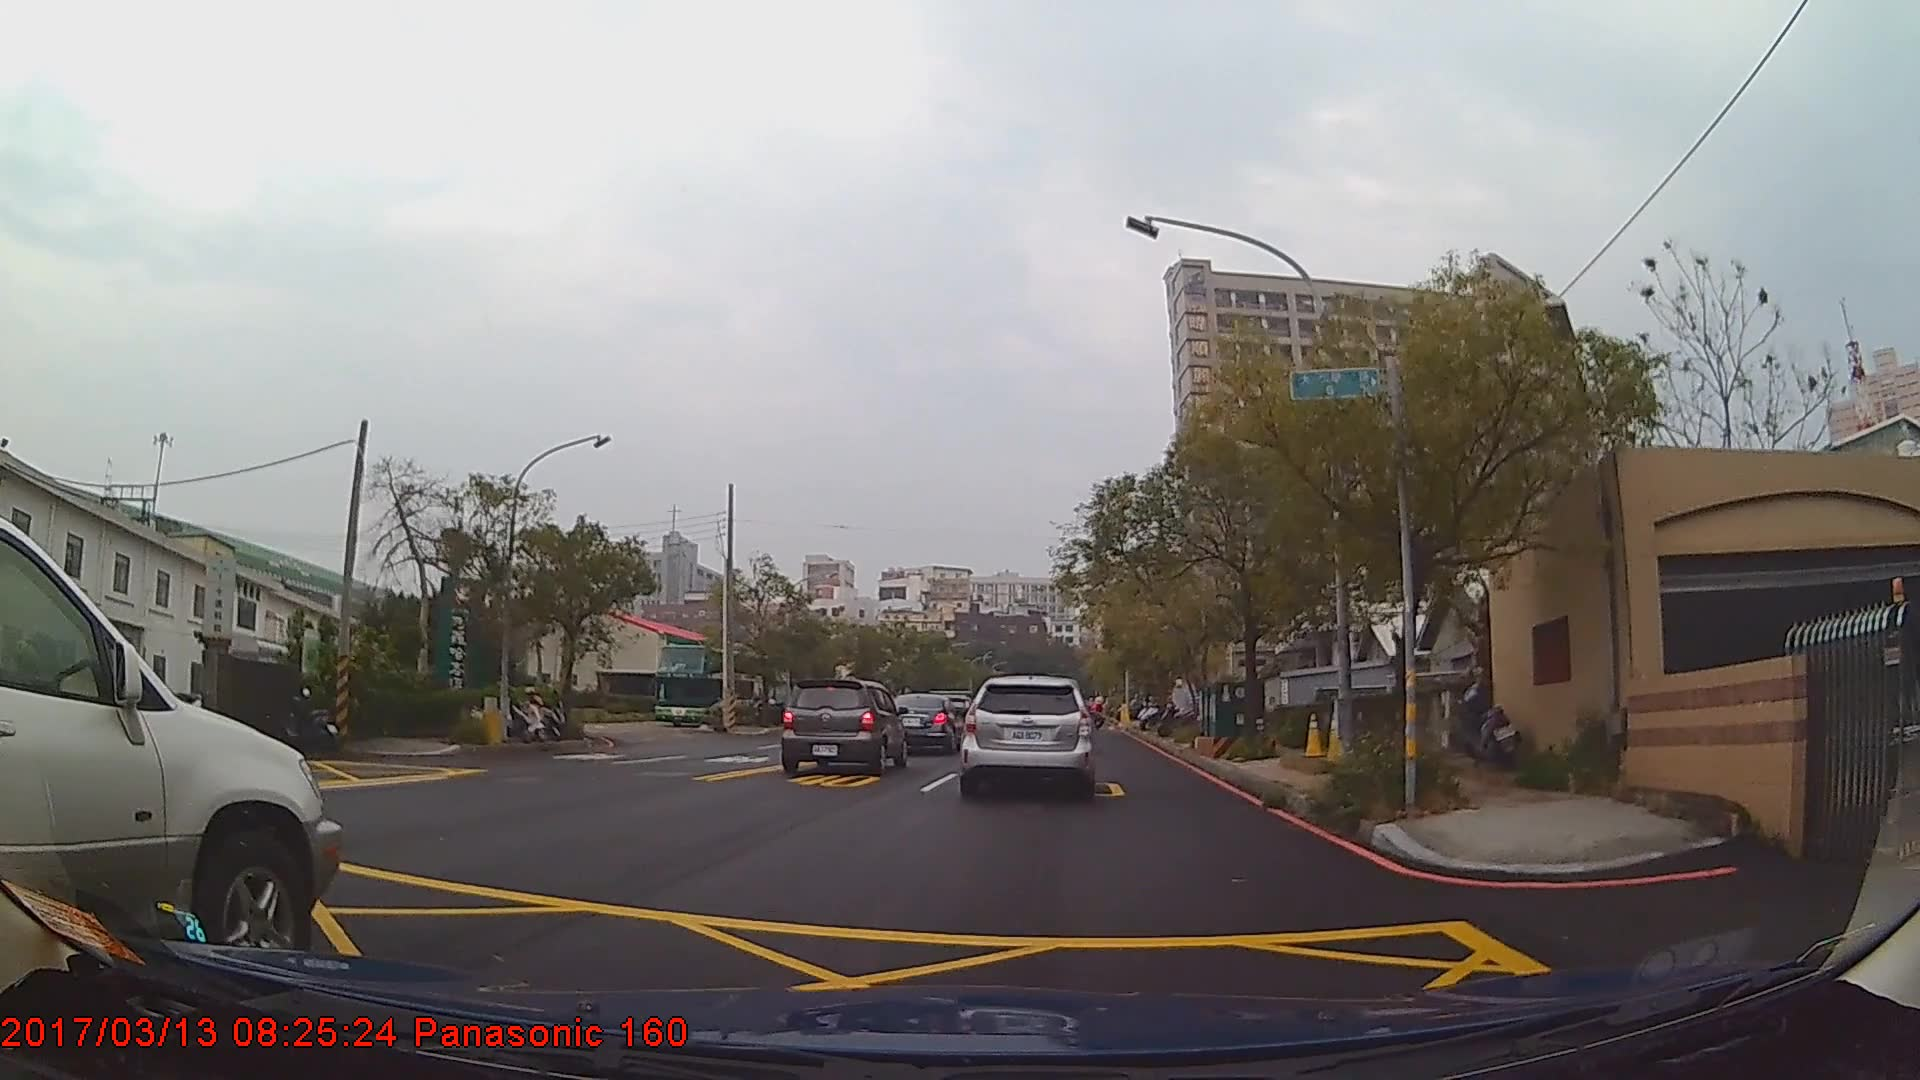vehicle: (0, 514, 342, 992), (957, 676, 1097, 802), (778, 679, 909, 774), (654, 641, 773, 727), (884, 690, 965, 756)
